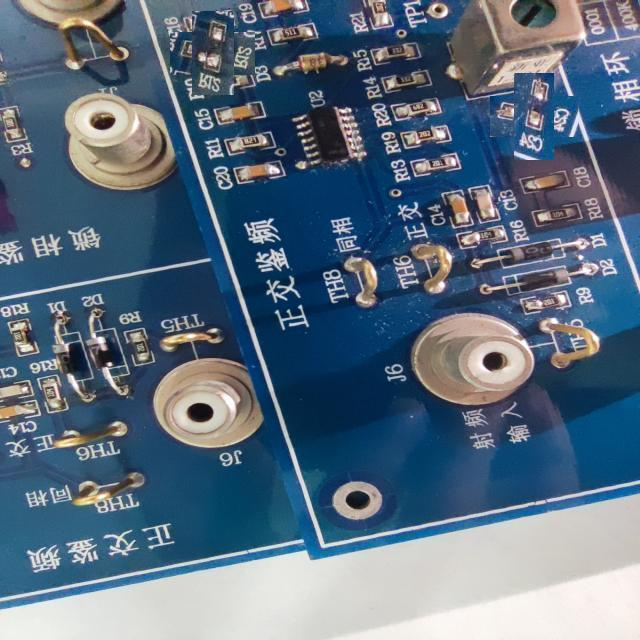miss_welding: (192, 12, 234, 95), (514, 73, 554, 160)
